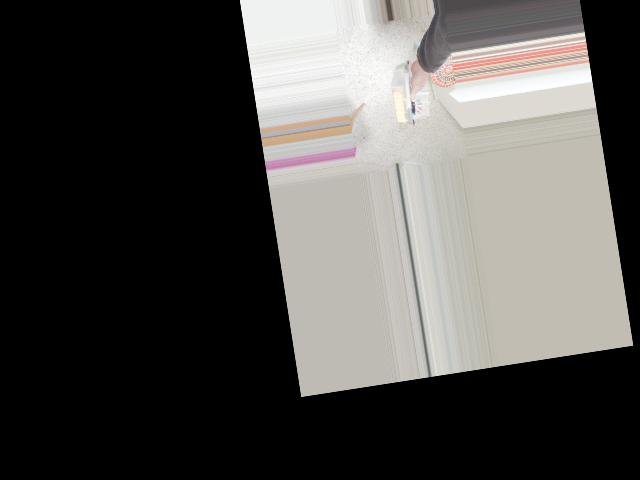cheese: (369, 45, 446, 124)
